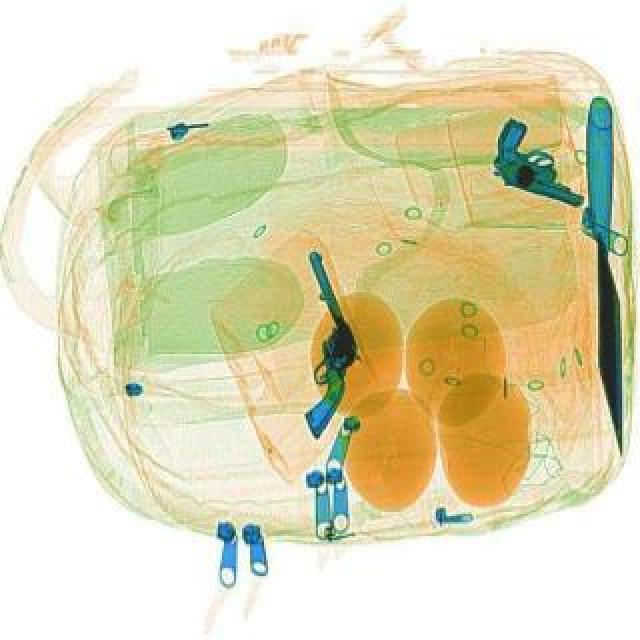gun: (260, 254, 384, 444), (486, 120, 608, 212)
knife: (586, 102, 628, 460)
